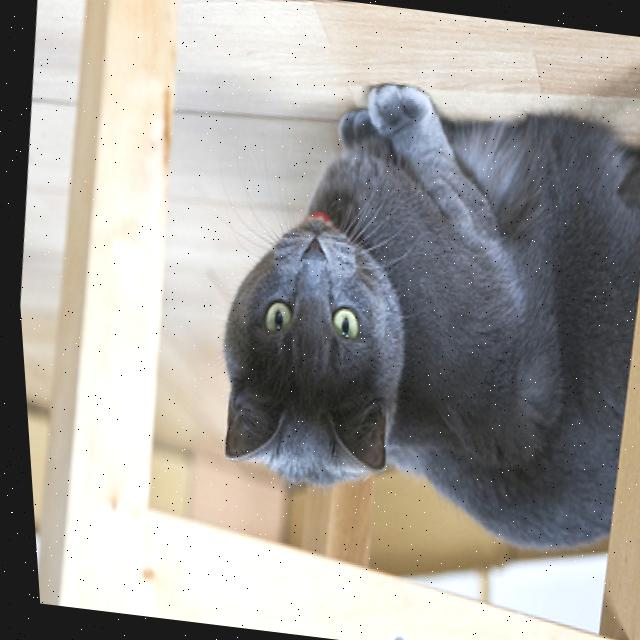Russian Blue: (180, 65, 640, 563)
